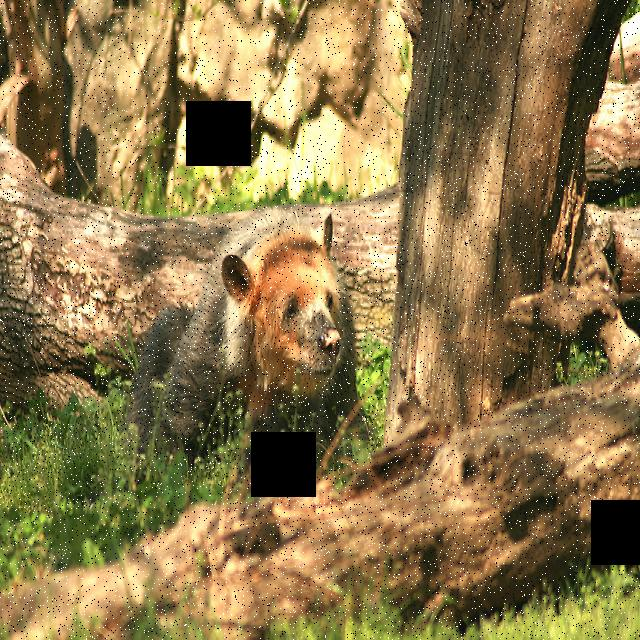Bear: (123, 215, 371, 460)
